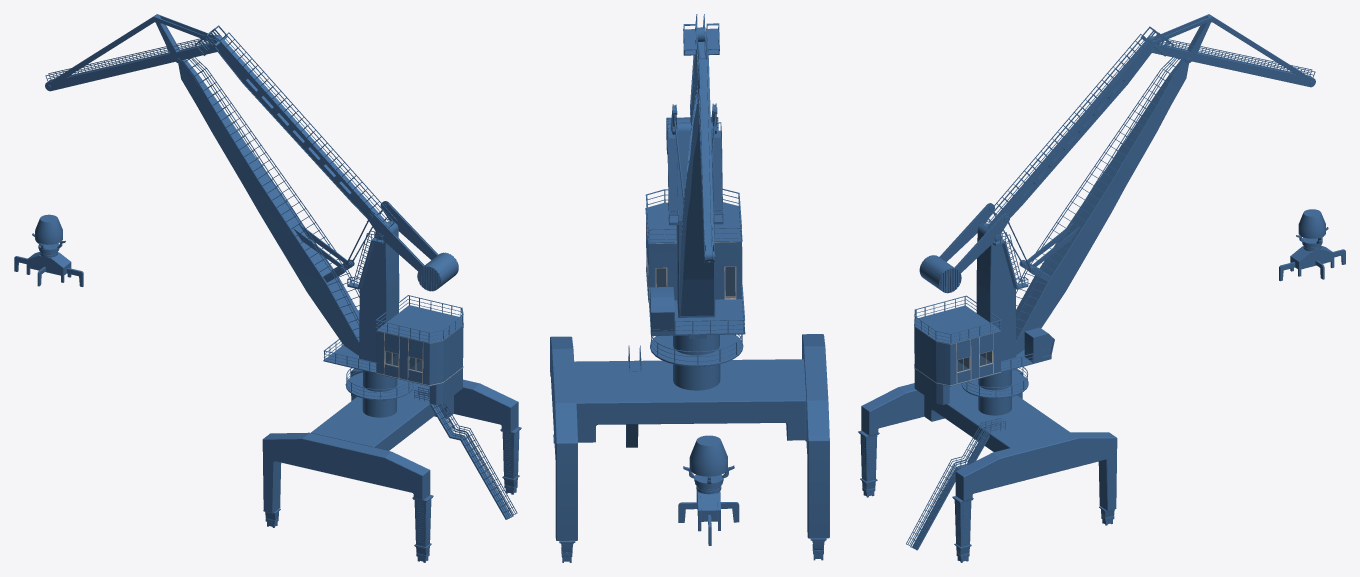
Rendered from qizhongji(3).fbx.
3 renders of one model, left to right at view 1: azimuth 30°, elevation 25°; view 2: azimuth 150°, elevation 25°; view 3: azimuth 270°, elevation 25°, orthographic. The views are drawn at different scales.
Parts seen in each view (by area): view 1: obj3, obj1, obj2; view 2: obj1, obj3, obj2; view 3: obj3, obj1, obj2.
Part boxes in pixels (x1,y1,x2,y2): obj3: (45, 14, 463, 405); obj1: (262, 368, 521, 562); obj2: (14, 214, 83, 286); obj1: (550, 332, 829, 562); obj3: (645, 14, 745, 355); obj2: (678, 435, 739, 545); obj3: (914, 14, 1315, 404); obj1: (858, 366, 1117, 562); obj2: (1279, 209, 1345, 281).
Bounding box in the file's own units: 23.88 × 32.36 × 32.77.
